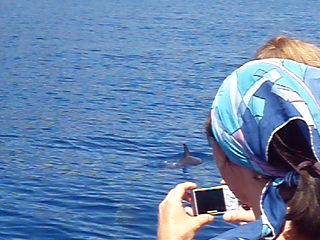person: (158, 58, 320, 240)
